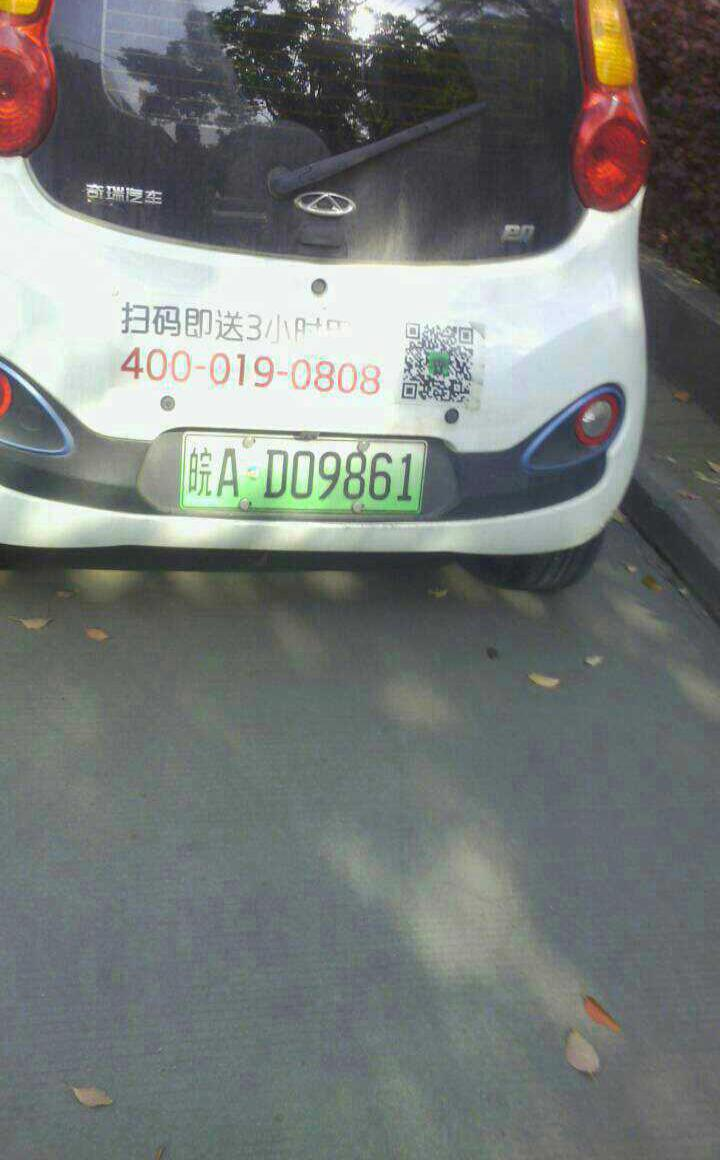car_id: (180, 431, 426, 513)
